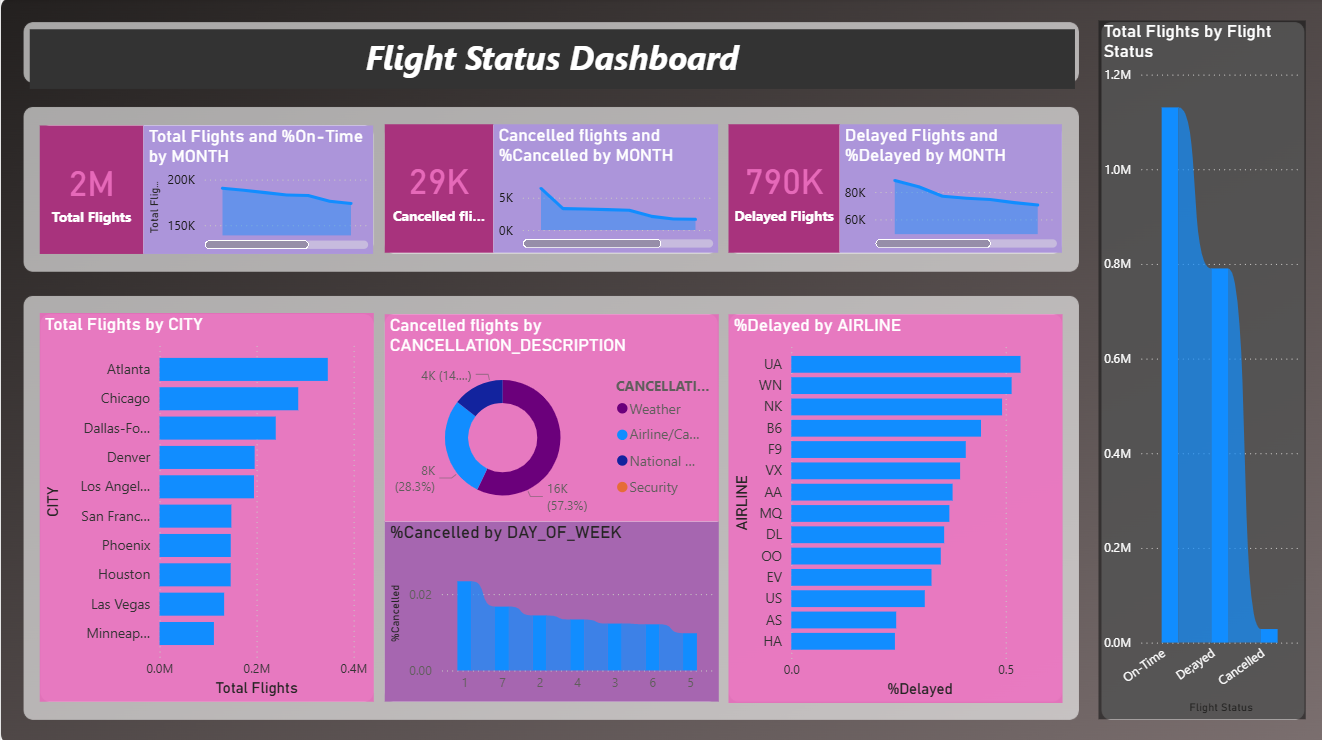

The page's visual inventory and layout, read from the dashboard file:
{"tool":"powerbi","page":{"name":"dashboard","canvas":[1280,720],"ordinal":0},"visuals":[{"type":"card","fields":{"Values":["flights.Total Flights"]},"box":[37.4,123.1,100.1,124.3],"z":0},{"type":"lineChart","fields":{"Category":["flights.MONTH"],"Y":["flights.Total Flights"]},"box":[137.5,123.1,222,124.3],"z":1000},{"type":"card","fields":{"Values":["flights.Cancelled flights"]},"box":[370.4,121.9,105,124.3],"z":2000},{"type":"lineChart","fields":{"Category":["flights.MONTH"],"Y":["flights.Cancelled flights"]},"box":[475.3,121.9,217.2,124.3],"z":3000},{"type":"card","fields":{"Values":["flights.Delayed Flights"]},"box":[702.1,121.9,107.4,124.3],"z":4000},{"type":"lineChart","fields":{"Category":["flights.MONTH"],"Y":["flights.Delayed Flights"]},"box":[809.5,121.9,214.7,124.3],"z":5000},{"type":"clusteredBarChart","fields":{"Category":["airports.CITY"],"Y":["flights.Total Flights"]},"box":[37.4,304,322.1,375.2],"z":6000},{"type":"clusteredBarChart","fields":{"Category":["flights.AIRLINE"],"Y":["flights.%Delayed"]},"box":[702.1,305.2,322.1,375.2],"z":7000},{"type":"donutChart","fields":{"Category":["cancellation_codes.CANCELLATION_DESCRIPTION"],"Y":["flights.Cancelled flights"]},"box":[370.4,305.2,322.1,200.3],"z":8000},{"type":"ribbonChart","fields":{"Category":["flights.DAY_OF_WEEK"],"Y":["flights.%Cancelled"]},"box":[370.4,505.5,322.1,173.7],"z":9000},{"type":"ribbonChart","fields":{"Category":["flights.Flight Status"],"Y":["flights.Total Flights"]},"box":[1059.3,21.7,200.3,674.4],"z":10000},{"type":"textbox","box":[27.7,30.2,1008.6,57.9],"z":10001}]}

Visuals, with their boxes in screenshot pixels (x1, y1, x2, y2), scaled from the page's 1280x720 canvas onto the 1322x740 screenshot:
card - flights.Total Flights: [left=39, top=127, right=142, bottom=254]
lineChart - flights.MONTH x flights.Total Flights: [left=142, top=127, right=371, bottom=254]
card - flights.Cancelled flights: [left=383, top=125, right=491, bottom=253]
lineChart - flights.MONTH x flights.Cancelled flights: [left=491, top=125, right=715, bottom=253]
card - flights.Delayed Flights: [left=725, top=125, right=836, bottom=253]
lineChart - flights.MONTH x flights.Delayed Flights: [left=836, top=125, right=1058, bottom=253]
clusteredBarChart - airports.CITY x flights.Total Flights: [left=39, top=312, right=371, bottom=698]
clusteredBarChart - flights.AIRLINE x flights.%Delayed: [left=725, top=314, right=1058, bottom=699]
donutChart - cancellation_codes.CANCELLATION_DESCRIPTION x flights.Cancelled flights: [left=383, top=314, right=715, bottom=520]
ribbonChart - flights.DAY_OF_WEEK x flights.%Cancelled: [left=383, top=520, right=715, bottom=698]
ribbonChart - flights.Flight Status x flights.Total Flights: [left=1094, top=22, right=1301, bottom=715]
textbox: [left=29, top=31, right=1070, bottom=91]
